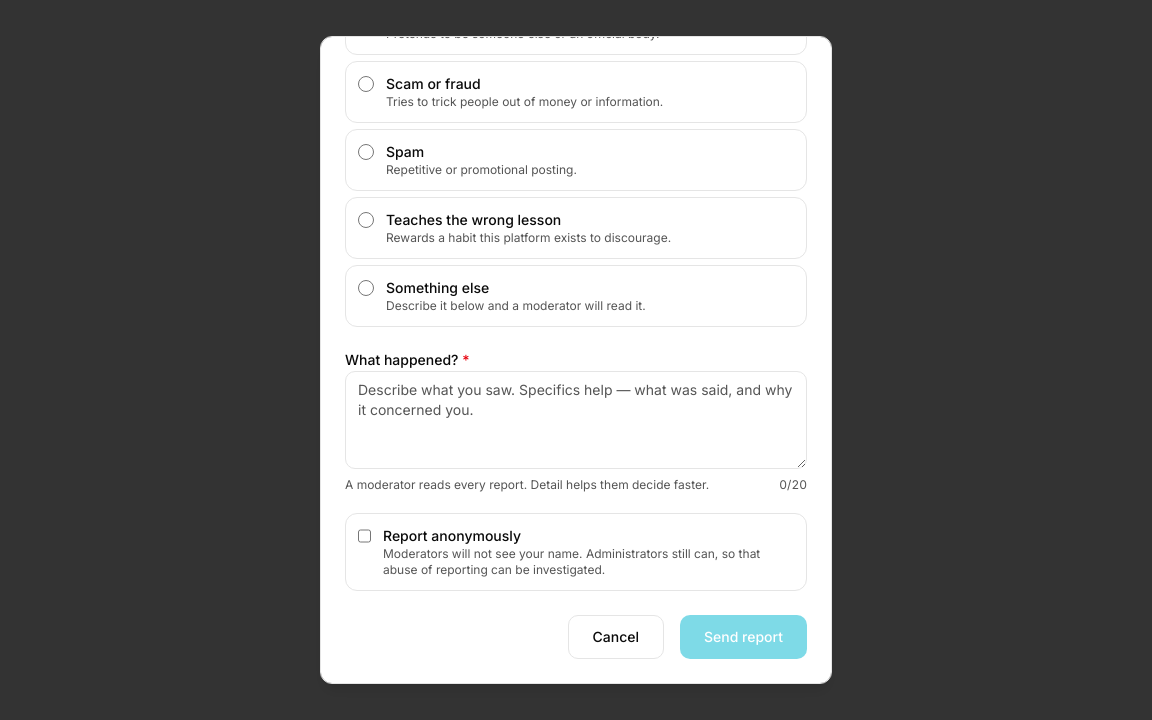
Test: ReportContentDialog › explains why the description is too short, as an alert
This screenshot has width=1152, height=720.
(page scrolled)
Type "short" into the text box labelled "What happened? *". click: point(576, 420)
box: [345, 371, 807, 469]
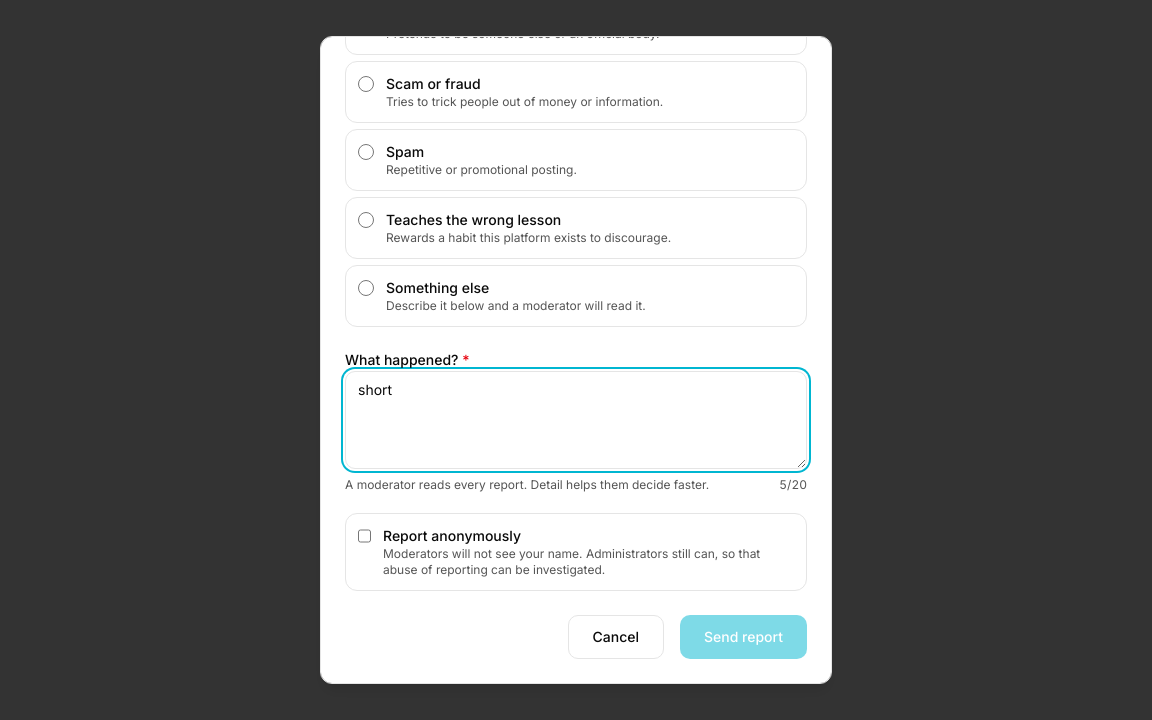
Press Tab
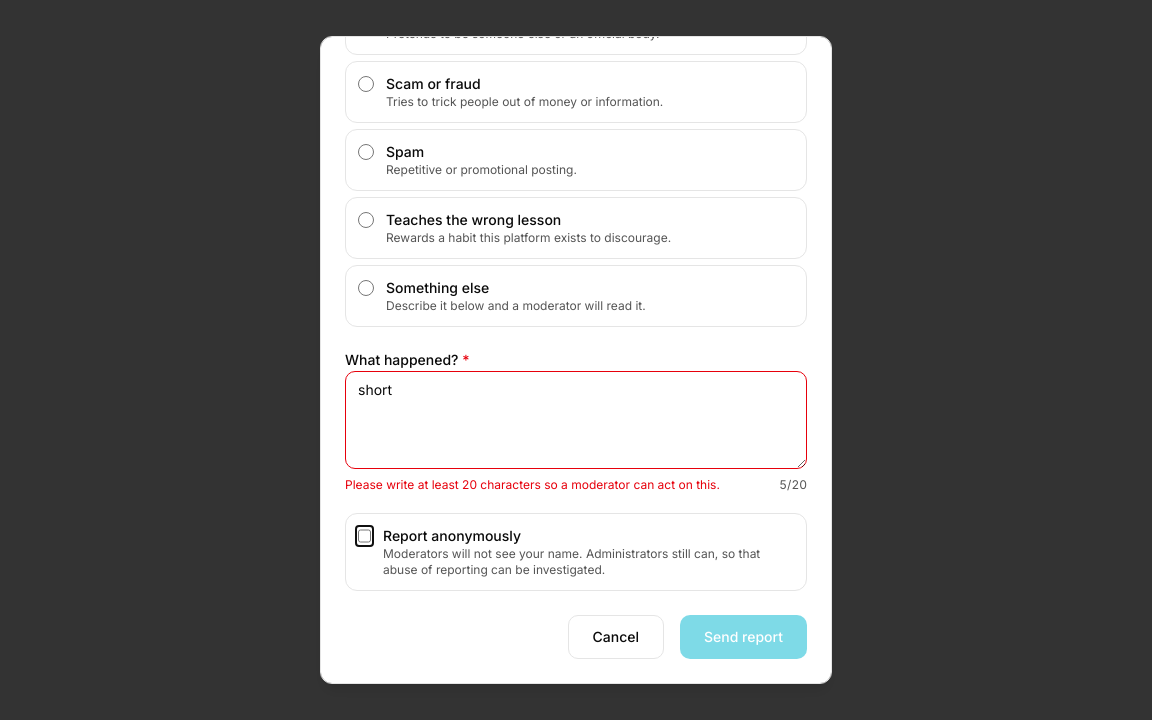
Check: the message shows "at least 20 characters", box [345, 477, 720, 492]
